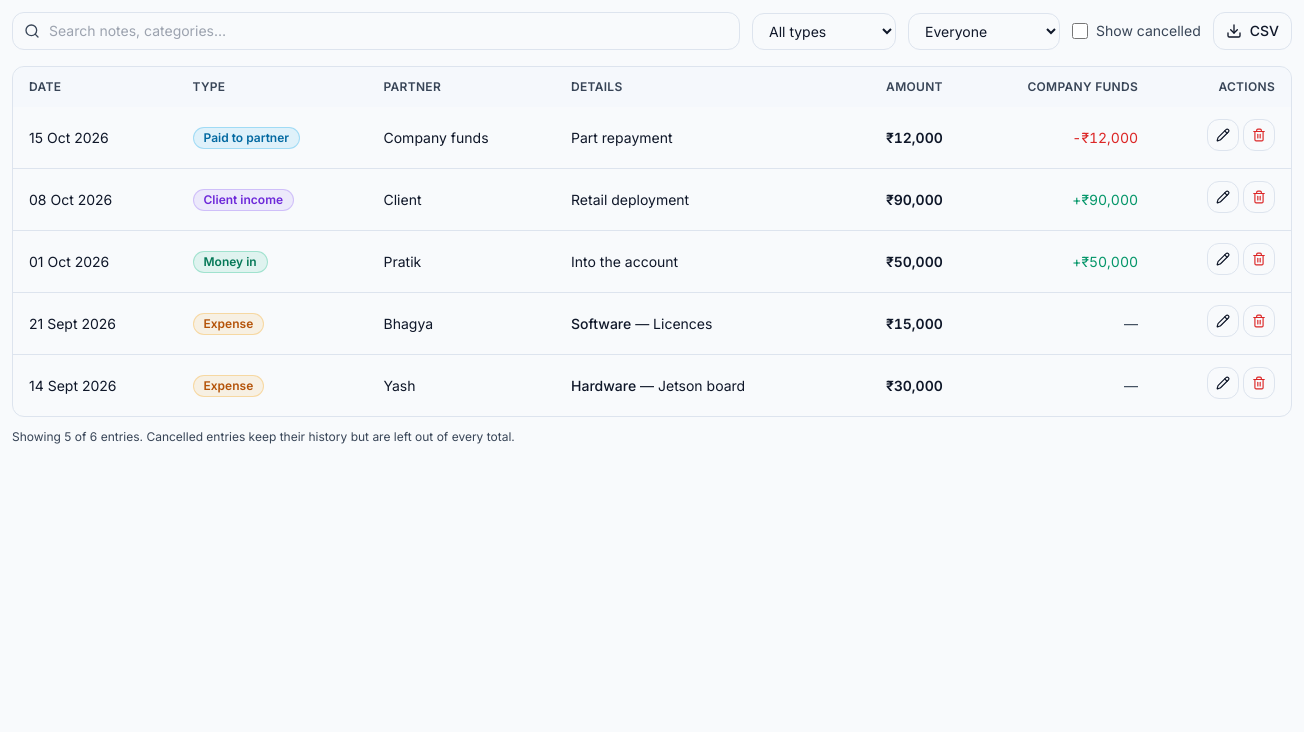
Test: FundLedgerTable › shows cancelled entries when asked, marked as such
This screenshot has width=1304, height=732.
Click the checkbox labelled "Show cancelled" at [1080, 31], box x1=1072 y1=23 x2=1088 y2=39
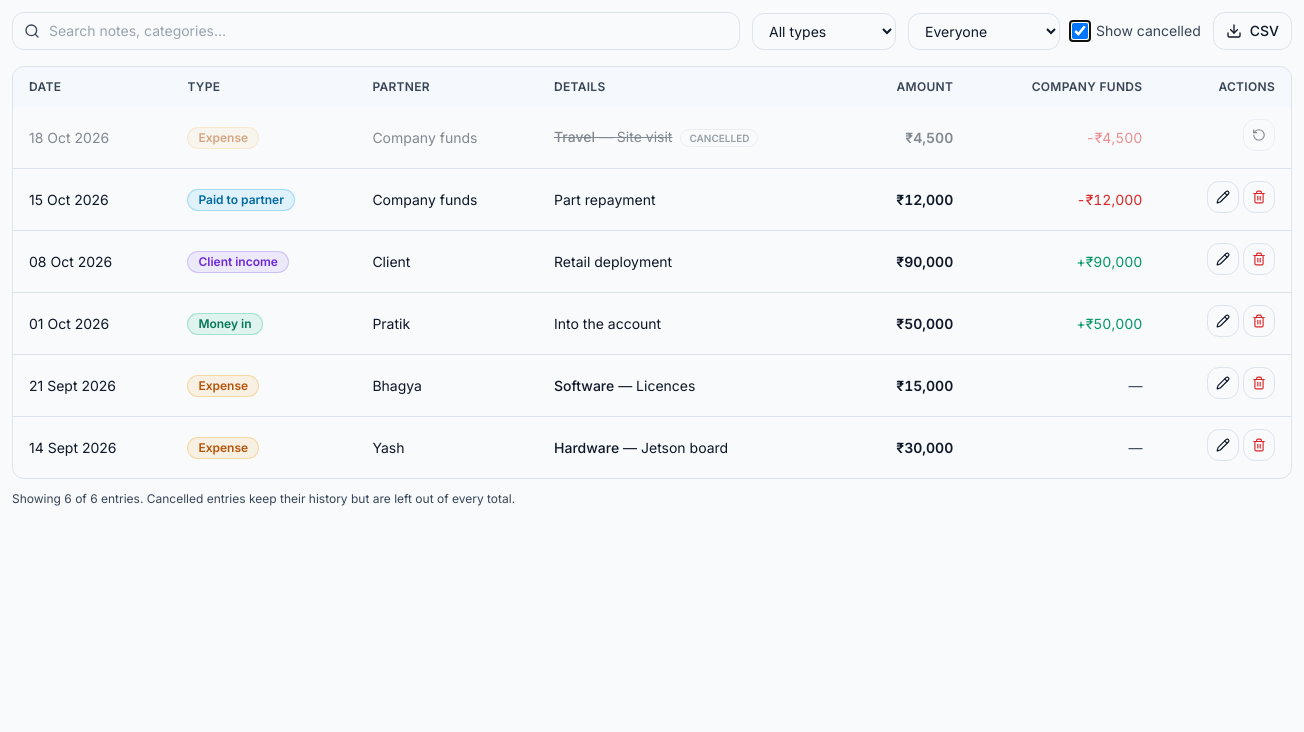
Now the text "Cancelled" is shown, box x1=680 y1=129 x2=758 y2=147
